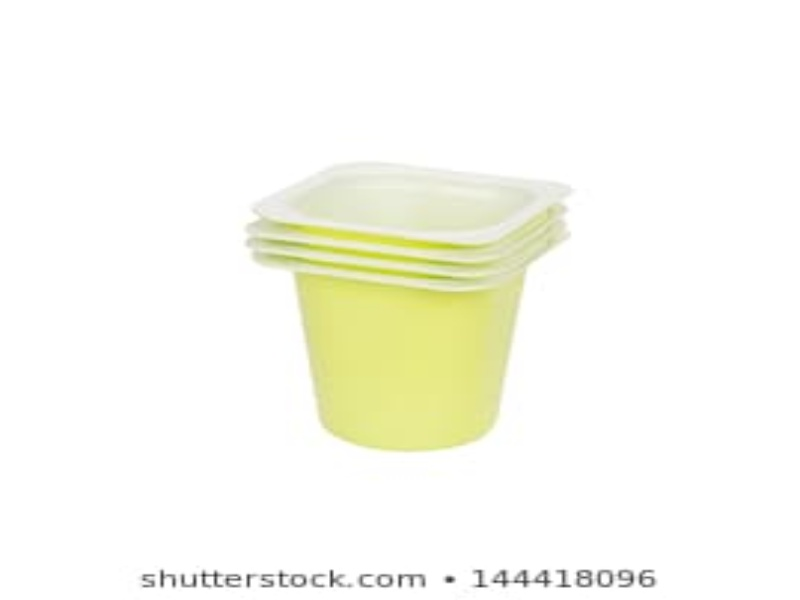yogurt-cup: (240, 159, 571, 453)
